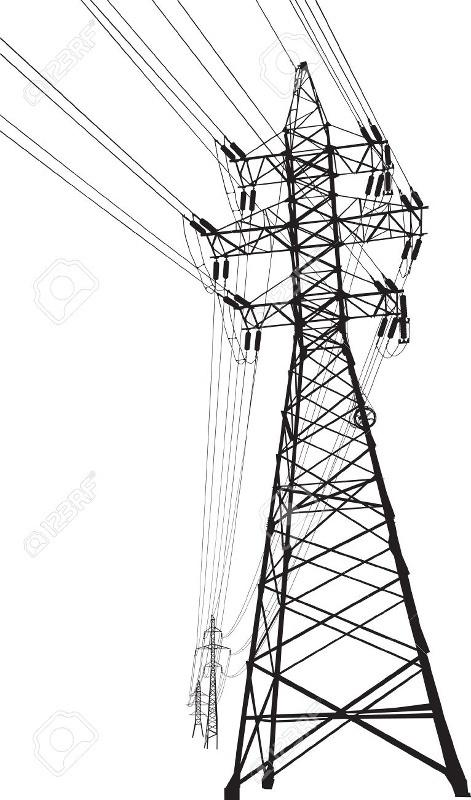power_tower: (199, 61, 464, 792), (193, 612, 236, 752)
